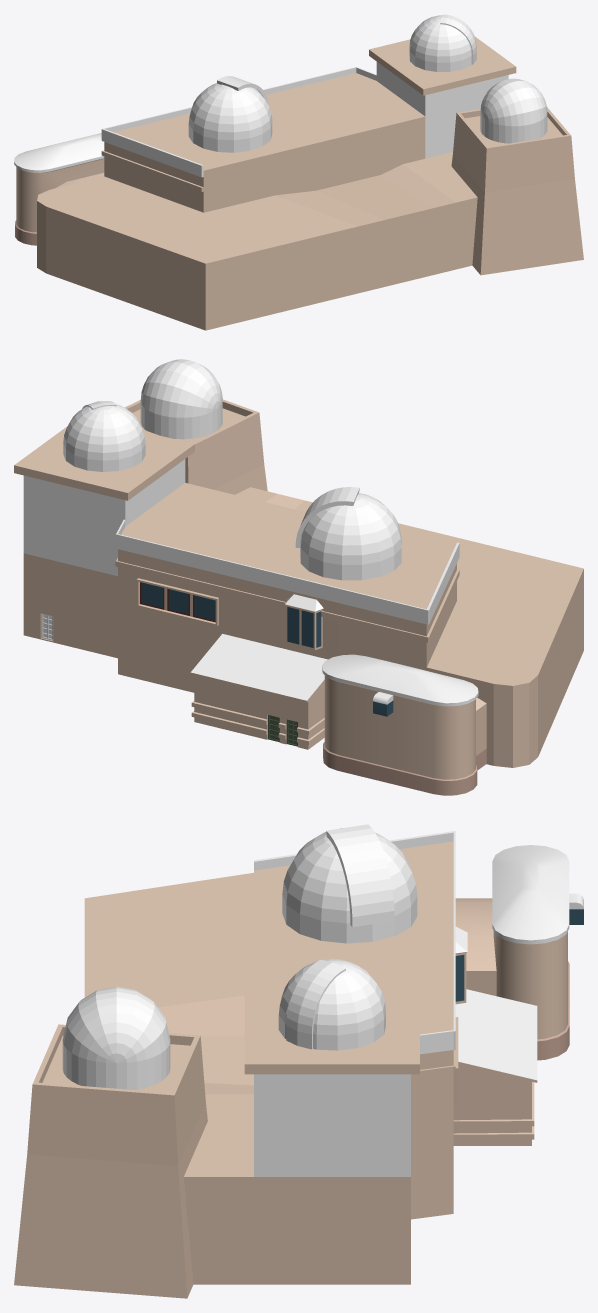
Rendered from PicduMidi_Edificios_Plataforma_1_01.fbx.
3 views of the same model, one above another, from view 1: azimuth 30°, elevation 25°; view 2: azimuth 150°, elevation 25°; view 3: azimuth 270°, elevation 25° (orthographic). The views are drawn at different scales.
Parts seen in each view (by area): view 1: Edificio_telescopios_01, Edificio_capsular; view 2: Edificio_telescopios_01, Edificio_capsular; view 3: Edificio_telescopios_01, Edificio_capsular.
Boxes of the visible parts, box(x1,y1,x2,y2) form: Edificio_telescopios_01: box(37, 14, 583, 330); Edificio_capsular: box(14, 133, 104, 245); Edificio_telescopios_01: box(14, 359, 583, 767); Edificio_capsular: box(322, 654, 486, 795); Edificio_telescopios_01: box(14, 824, 537, 1298); Edificio_capsular: box(455, 845, 583, 1060).
Bounding box in the file's own units: 6530 × 2582 × 4606.
